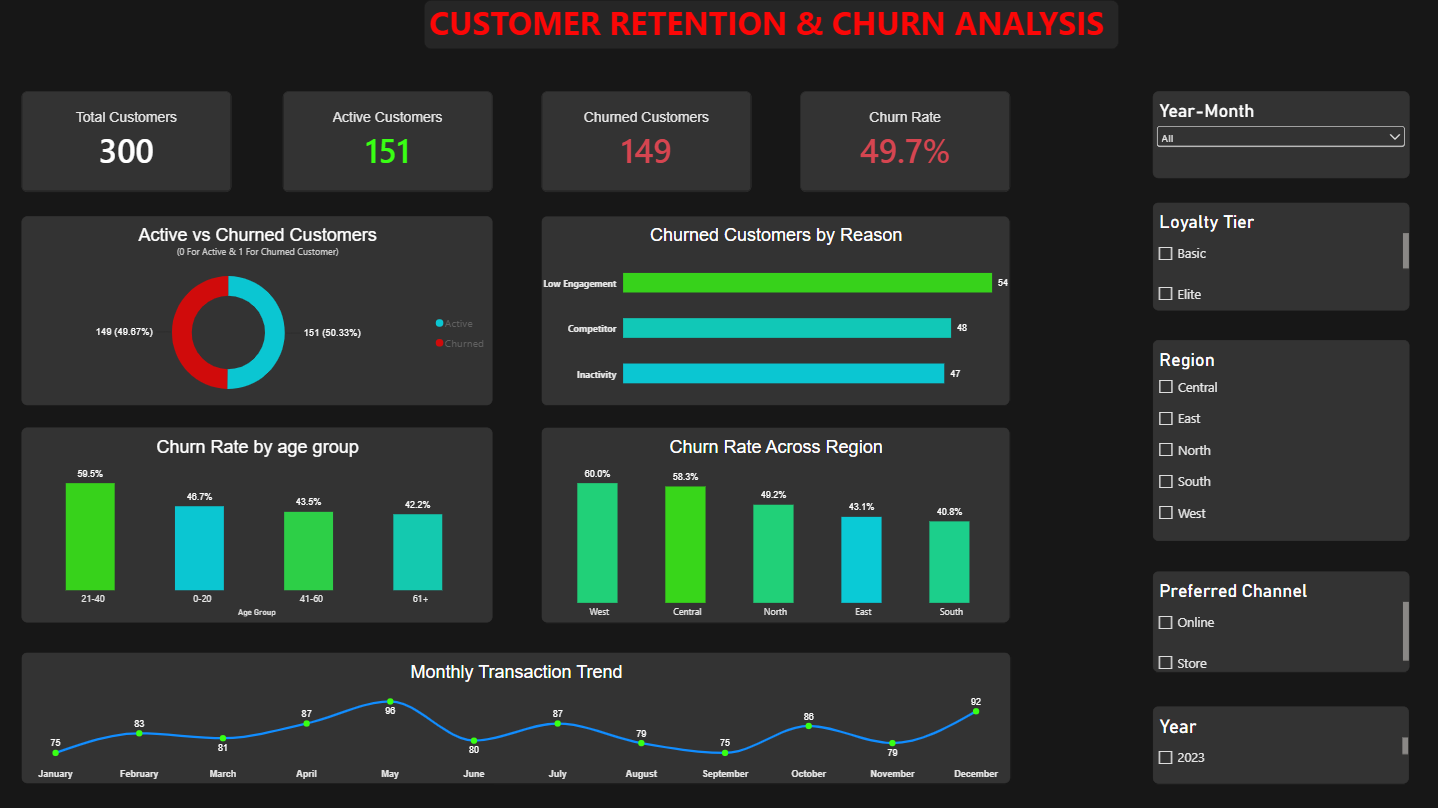

This screenshot's page, from the dashboard's own definition file:
{"tool":"powerbi","page":{"name":"Page 6","canvas":[1920,1080],"ordinal":0},"visuals":[{"type":"cardVisual","fields":{"Data":["Key Measures (2).Total Customers"]},"box":[30,122,280,134],"z":0},{"type":"cardVisual","fields":{"Data":["Key Measures (2).Active Customers"]},"box":[378,122,280,134],"z":1000},{"type":"cardVisual","fields":{"Data":["Key Measures (2).Churned Customers"]},"box":[724,122,280,134],"z":2000},{"type":"cardVisual","fields":{"Data":["Key Measures (2).Churn Rate"]},"box":[1068,122,280,134],"z":3000},{"type":"donutChart","title":"Active vs Churned Customers","fields":{"Category":["Churn_Labelled_Customers.Churn_Status"],"Y":["CountNonNull(Customer_Demographics.Customer_ID)"]},"box":[30,288,628,252],"z":4000},{"type":"barChart","title":"Churned Customers by Reason","fields":{"Category":["Churn_Labelled_Customers.Churn_Reason"],"Y":["Key Measures (2).Churned Customers"]},"box":[724,288,624,252],"z":5000},{"type":"columnChart","title":"Churn Rate Across Region","fields":{"Category":["Customer_Demographics.Region"],"Y":["Key Measures (2).Churn Rate"]},"box":[724,570,624,260],"z":6000},{"type":"columnChart","title":"Churn Rate by age group","fields":{"Category":["Customer_Demographics.Age_group"],"Y":["Key Measures (2).Churn Rate"]},"box":[30,570,628,260],"z":7000},{"type":"lineChart","title":"Monthly Transaction Trend","fields":{"Category":["Customer_Transactions.Transaction_Date.Variation.Date Hierarchy.Month"],"Y":["CountNonNull(Customer_Transactions.Transaction_ID)"]},"box":[29.7,870.4,1318.6,174.4],"z":8000},{"type":"slicer","fields":{"Values":["Customer_Transactions.Transaction_Date.Variation.Date Hierarchy.Year"]},"box":[1538.4,941.9,341.9,102.9],"z":9000},{"type":"textbox","box":[566,0,926.2,65.9],"z":10000},{"type":"slicer","fields":{"Values":["Customer_Demographics.Preferred_Channel"]},"box":[1538,762,342,134],"z":11000},{"type":"slicer","fields":{"Values":["Customer_Demographics.Region"]},"box":[1538,454,342,268],"z":12000},{"type":"slicer","fields":{"Values":["Customer_Transactions.Transaction_year_month"]},"box":[1538,122,342,116],"z":13000},{"type":"slicer","fields":{"Values":["Loyalty_Program.Loyalty_Tier"]},"box":[1538,270,342,144],"z":14000}]}

Visuals, with their boxes in screenshot pixels (x1, y1, x2, y2), scaled from the page's 1920x1080 canvas onto the 1438x808 screenshot:
cardVisual - Key Measures (2).Total Customers: {"left": 22, "top": 91, "right": 232, "bottom": 192}
cardVisual - Key Measures (2).Active Customers: {"left": 283, "top": 91, "right": 493, "bottom": 192}
cardVisual - Key Measures (2).Churned Customers: {"left": 542, "top": 91, "right": 752, "bottom": 192}
cardVisual - Key Measures (2).Churn Rate: {"left": 800, "top": 91, "right": 1010, "bottom": 192}
"Active vs Churned Customers" donutChart: {"left": 22, "top": 215, "right": 493, "bottom": 404}
"Churned Customers by Reason" barChart: {"left": 542, "top": 215, "right": 1010, "bottom": 404}
"Churn Rate Across Region" columnChart: {"left": 542, "top": 426, "right": 1010, "bottom": 621}
"Churn Rate by age group" columnChart: {"left": 22, "top": 426, "right": 493, "bottom": 621}
"Monthly Transaction Trend" lineChart: {"left": 22, "top": 651, "right": 1010, "bottom": 782}
slicer - Customer_Transactions.Transaction_Date.Variation.Date Hierarchy.Year: {"left": 1152, "top": 705, "right": 1408, "bottom": 782}
textbox: {"left": 424, "top": 0, "right": 1118, "bottom": 49}
slicer - Customer_Demographics.Preferred_Channel: {"left": 1152, "top": 570, "right": 1408, "bottom": 670}
slicer - Customer_Demographics.Region: {"left": 1152, "top": 340, "right": 1408, "bottom": 540}
slicer - Customer_Transactions.Transaction_year_month: {"left": 1152, "top": 91, "right": 1408, "bottom": 178}
slicer - Loyalty_Program.Loyalty_Tier: {"left": 1152, "top": 202, "right": 1408, "bottom": 310}
